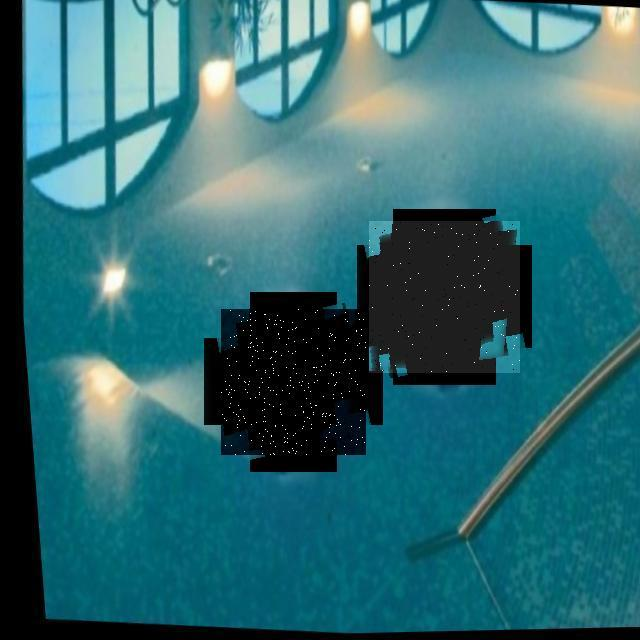swimming: (369, 221, 520, 373), (221, 309, 366, 455)
